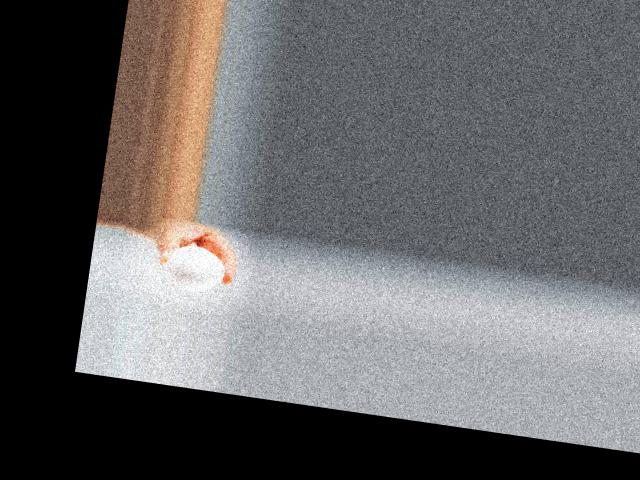egg: (163, 244, 228, 294)
